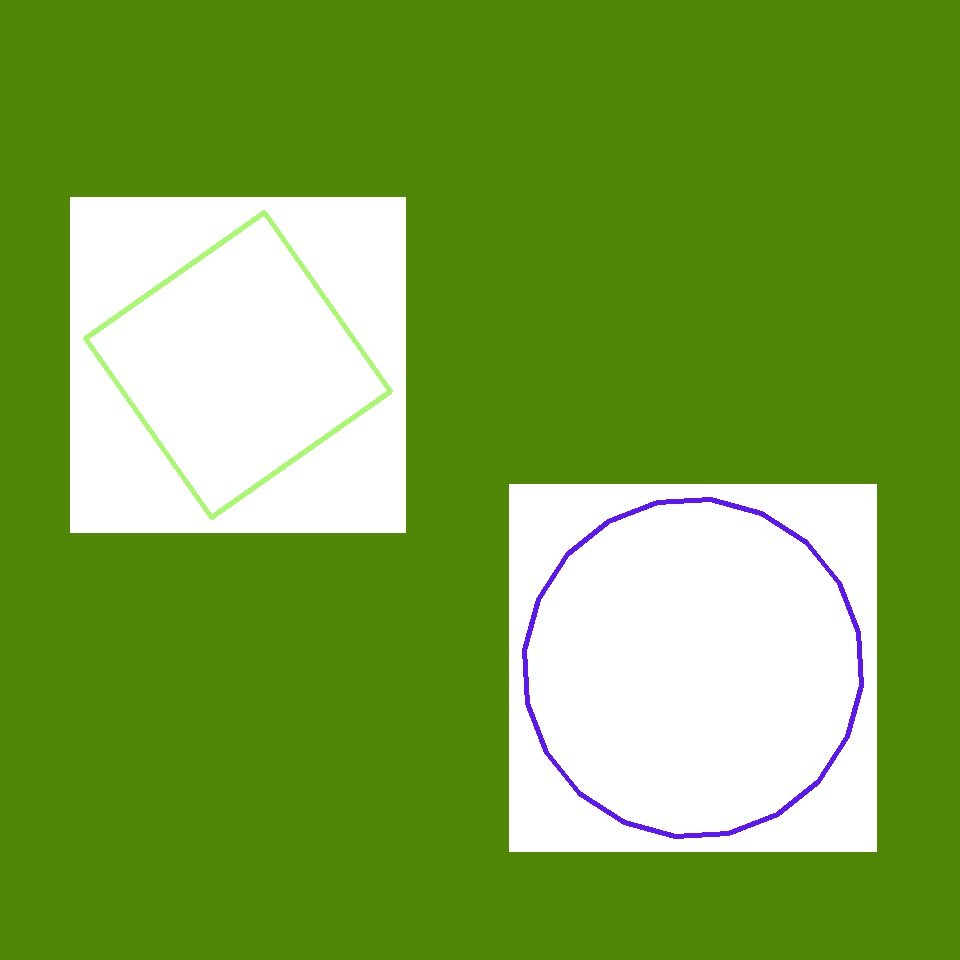circle: (427, 299, 595, 481)
square: (86, 212, 390, 518), (204, 680, 432, 908)
triangle: (524, 499, 862, 836), (146, 142, 404, 402)
